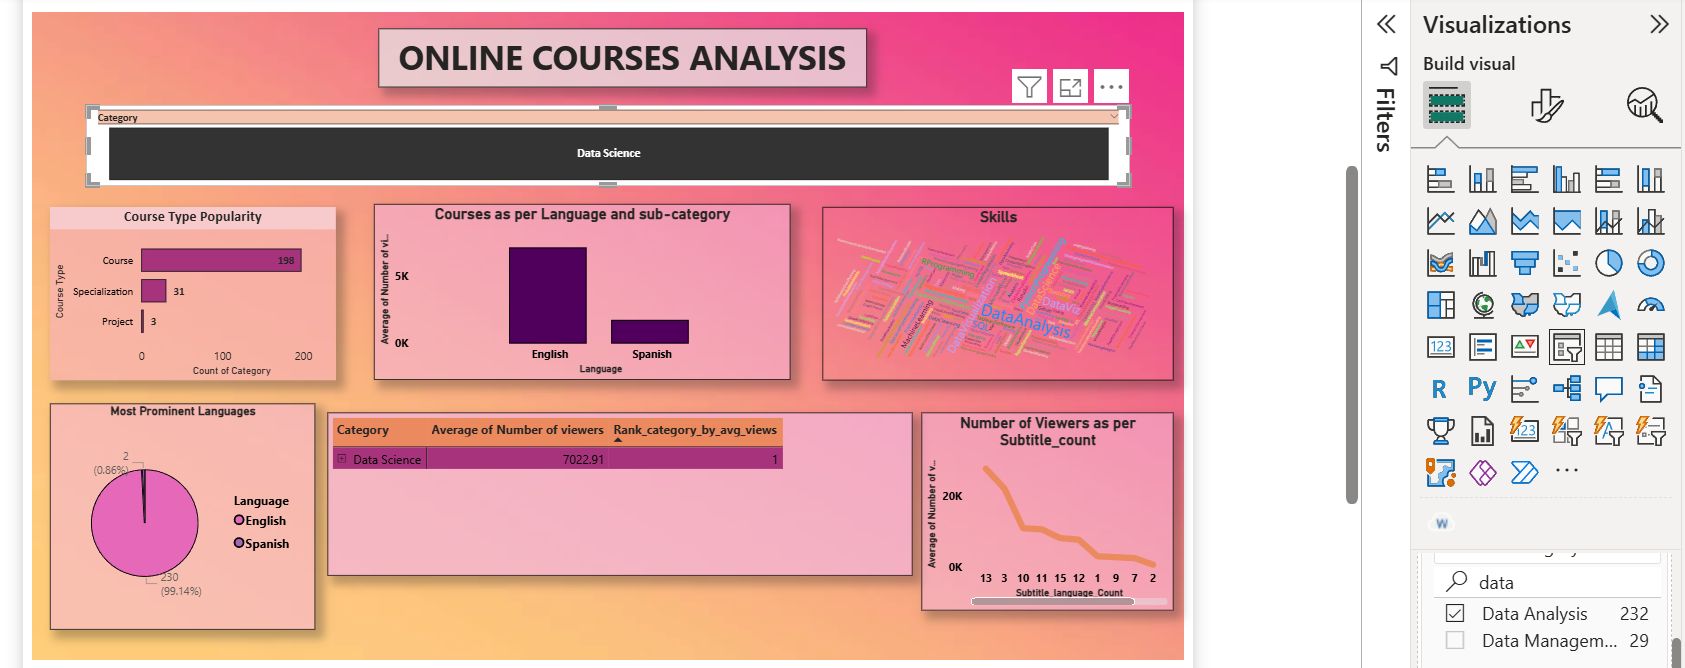

The dashboard page shown, as its layout file describes it:
{"tool":"powerbi","page":{"name":"Page 1","canvas":[1300,1500],"ordinal":0},"visuals":[{"type":"textbox","box":[395,405,542.5,65],"z":0},{"type":"slicer","fields":{"Values":["Online_Courses.Category"]},"box":[70,490,1160,90],"z":1000},{"type":"clusteredBarChart","title":"Course Type Popularity","fields":{"Category":["Online_Courses.Course Type"],"Y":["CountNonNull(Online_Courses.Category)"]},"box":[30,602.5,317.5,192.5],"z":2000},{"type":"columnChart","title":"Courses as per Language and sub-category","fields":{"Category":["Online_Courses.Language"],"Y":["Avg(Online_Courses.Number of viewers)"]},"box":[390,600,462.5,195],"z":3000},{"type":"actionButton","box":[0,0,100,40],"z":4000},{"type":"WordCloud1447959067750","fields":{"Category":["Online_Courses.Skills"]},"box":[887.5,602.5,390,192.5],"z":5000},{"type":"pieChart","title":"Most Prominent Languages","fields":{"Category":["Online_Courses.Language"],"Y":["CountNonNull(Online_Courses.CourseID)"]},"box":[29.9,822.3,294.6,251.1],"z":6000},{"type":"pivotTable","fields":{"Rows":["Online_Courses.Category","Online_Courses.Language"],"Values":["Avg(Online_Courses.Number of viewers)","Online_Courses.Rank_category_by_avg_views"]},"box":[339.1,831,650,181.5],"z":7000},{"type":"lineChart","title":"Number of Viewers as per Subtitle_count","fields":{"Y":["Avg(Online_Courses.Number of viewers)"],"Category":["Online_Courses.Subtitle_language_Count"]},"box":[997.8,831,279.9,220.1],"z":7001}]}

Visuals, with their boxes on the page's 1300x1500 design canvas (x1, y1, x2, y2). These are canvas units, not pixel positions in the 1685x668 screenshot, which may show the page scaled, cropped or inside an application window:
textbox: box=[395, 405, 938, 470]
slicer - Online_Courses.Category: box=[70, 490, 1230, 580]
"Course Type Popularity" clusteredBarChart: box=[30, 602, 348, 795]
"Courses as per Language and sub-category" columnChart: box=[390, 600, 852, 795]
actionButton: box=[0, 0, 100, 40]
WordCloud1447959067750 - Online_Courses.Skills: box=[888, 602, 1278, 795]
"Most Prominent Languages" pieChart: box=[30, 822, 324, 1073]
pivotTable - Online_Courses.Category x Online_Courses.Language: box=[339, 831, 989, 1012]
"Number of Viewers as per Subtitle_count" lineChart: box=[998, 831, 1278, 1051]
